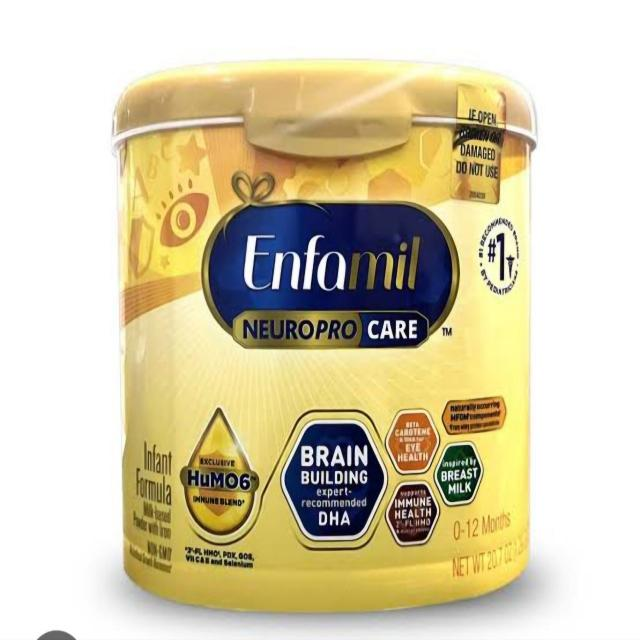formula-milk: (124, 104, 515, 589)
